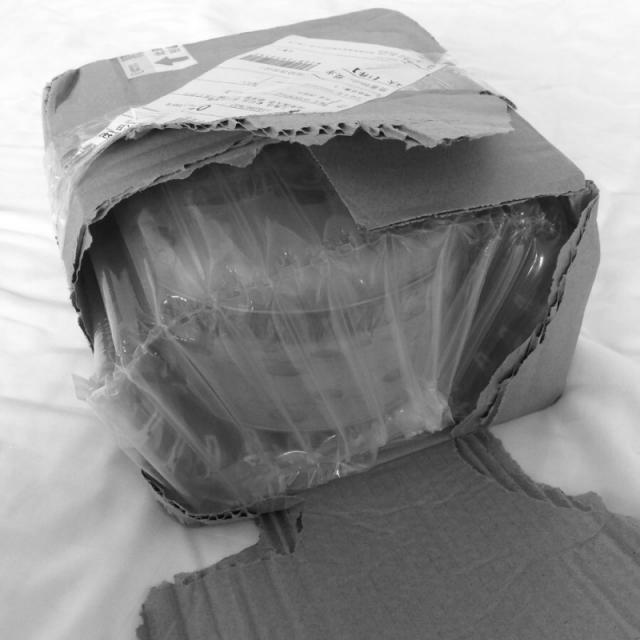hole: (109, 144, 571, 513)
